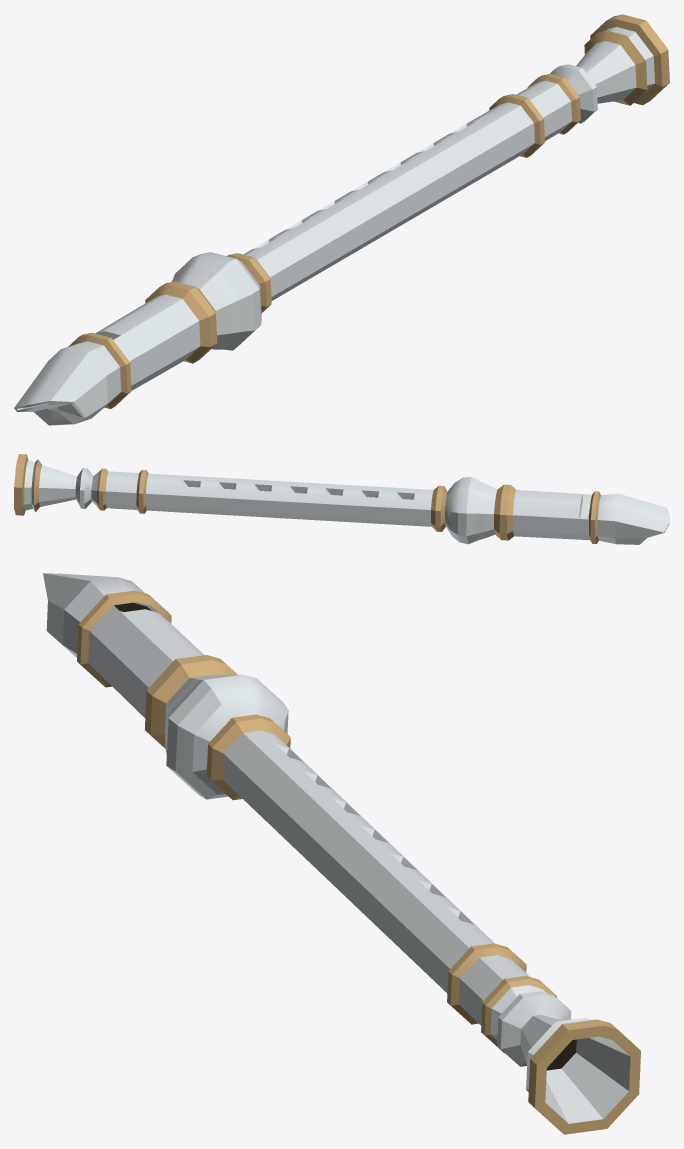
File: flute02.fbx
3 views of the same model, one above another, from view 1: azimuth 30°, elevation 25°; view 2: azimuth 150°, elevation 25°; view 3: azimuth 270°, elevation 25° (orthographic). The views are drawn at different scales.
Visible parts, largest first — view 1: pCylinder93; view 2: pCylinder93; view 3: pCylinder93.
Part boxes in pixels (x1,y1,x2,y2): pCylinder93: (14, 14, 669, 425); pCylinder93: (14, 454, 669, 544); pCylinder93: (43, 573, 640, 1134).
Size of the model in its own units: 14.88 by 1.58 by 7.22.
Materials: 1 (1 with a texture image).
